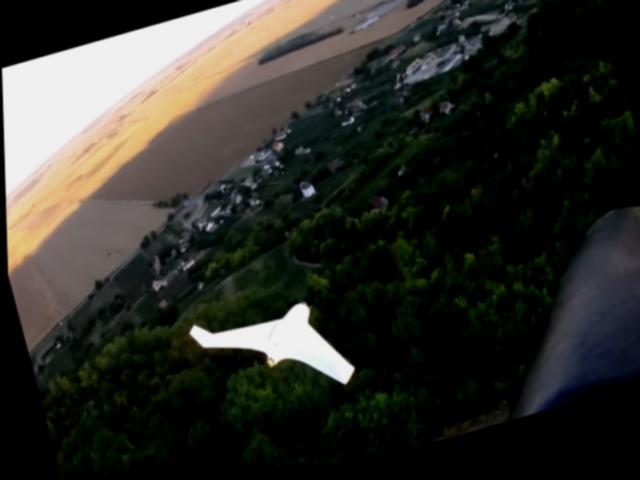plane: (184, 287, 355, 424)
